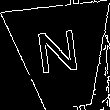N_S: (37, 29, 86, 84)
